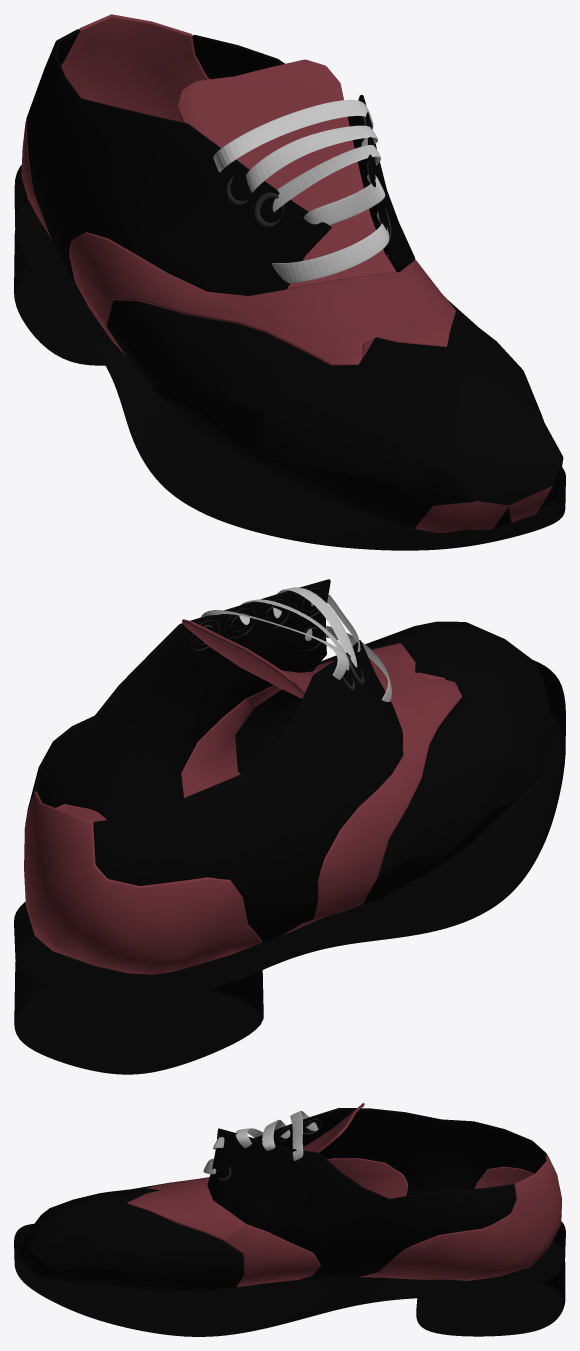
The model's file is za2ot3derecha.fbx.
3 renders of one model, top to bottom at view 1: azimuth 30°, elevation 25°; view 2: azimuth 150°, elevation 25°; view 3: azimuth 270°, elevation 25°, orthographic. The views are drawn at different scales.
Parts seen in each view (by area): view 1: zapato2, Plane, Plane.004, Plane.005, Plane.003, Plane.001, Plane.002; view 2: zapato2, Plane, Plane.001, Plane.004; view 3: zapato2, Plane, Plane.004, Plane.003, Plane.001.
Part boxes in pixels (box(x1,y1,x2,y2)): zapato2: box(21, 14, 563, 532); Plane: box(14, 165, 565, 550); Plane.004: box(213, 99, 373, 171); Plane.005: box(272, 212, 389, 282); Plane.003: box(246, 125, 377, 192); Plane.001: box(272, 145, 380, 211); Plane.002: box(303, 174, 385, 225); zapato2: box(24, 579, 550, 974); Plane: box(14, 660, 565, 1074); Plane.001: box(273, 587, 357, 667); Plane.004: box(200, 610, 347, 679); zapato2: box(18, 1103, 562, 1291); Plane: box(14, 1221, 565, 1336); Plane.004: box(290, 1110, 317, 1160); Plane.003: box(262, 1119, 290, 1150); Plane.001: box(235, 1128, 262, 1148).
Size of the model in its own units: 169 by 176 by 447.
